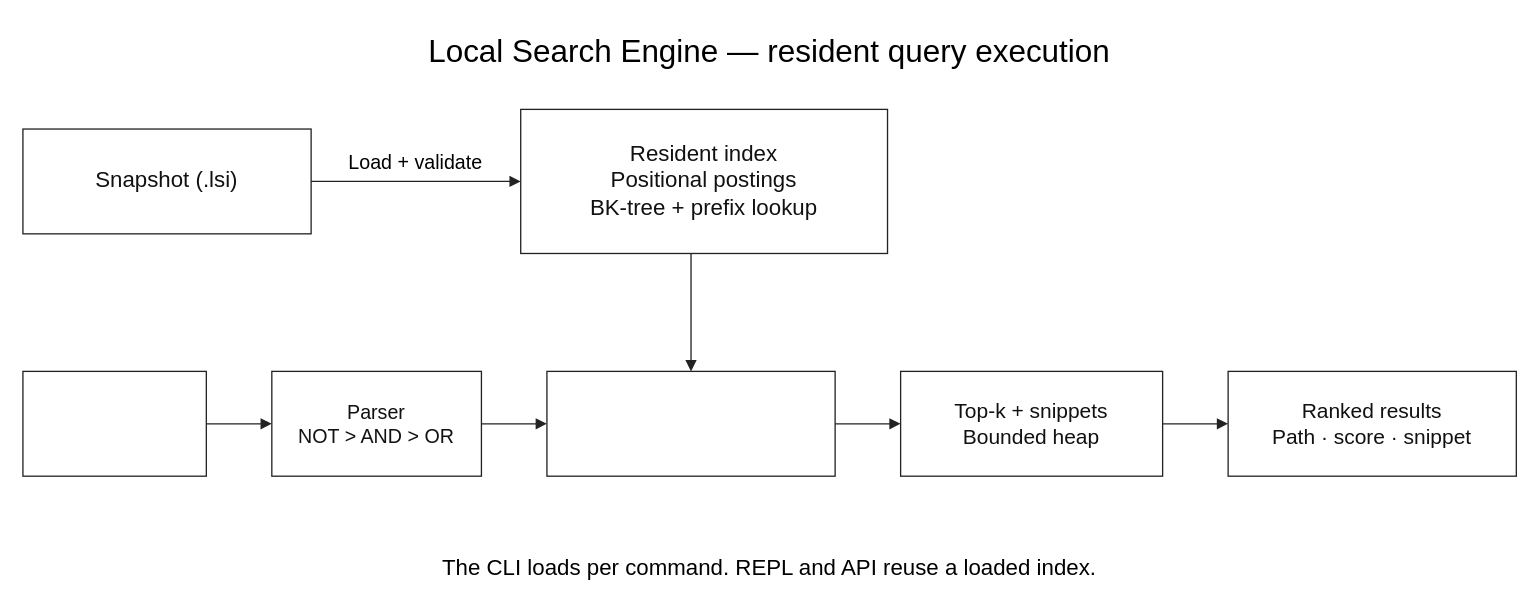
The diagram is 1539 pixels wide and 603 high, and some of its shapes have lost their labels. The shapes that lost their labels are listed below. From the top down, each one's centre as x and y in pixels, then its label:
point 114,423: Query
point 690,423: Retrieve + score Boolean · phrases · BM25
